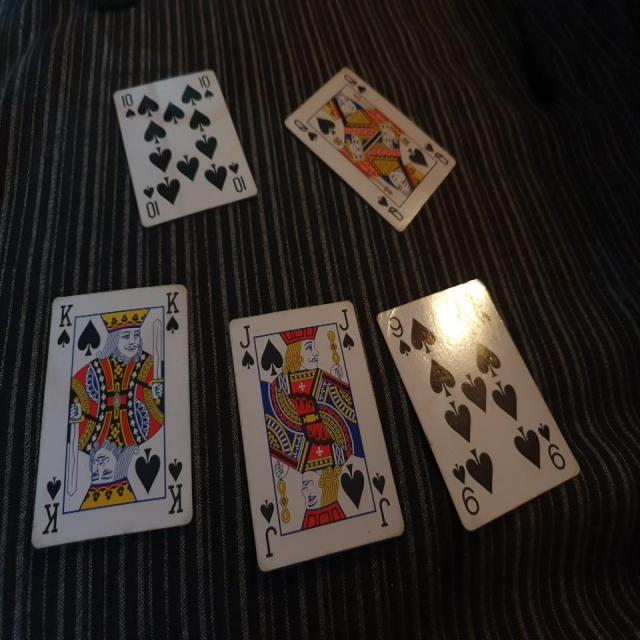10 Spades: (111, 64, 262, 231)
9 Spades: (369, 273, 585, 540)
J Spades: (220, 290, 410, 572)
K Spades: (29, 279, 206, 564)
Q Spades: (284, 66, 461, 237)
